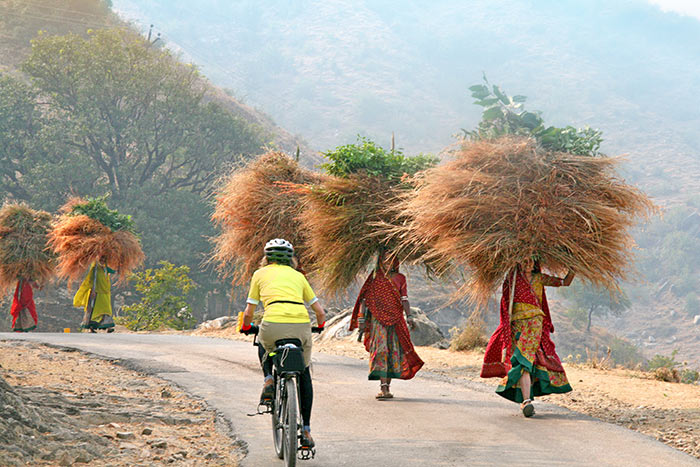with_helmet: (262, 237, 296, 270)
